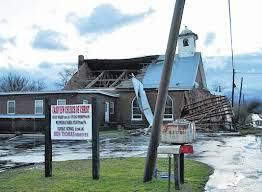sagging_roof: (61, 51, 166, 93)
